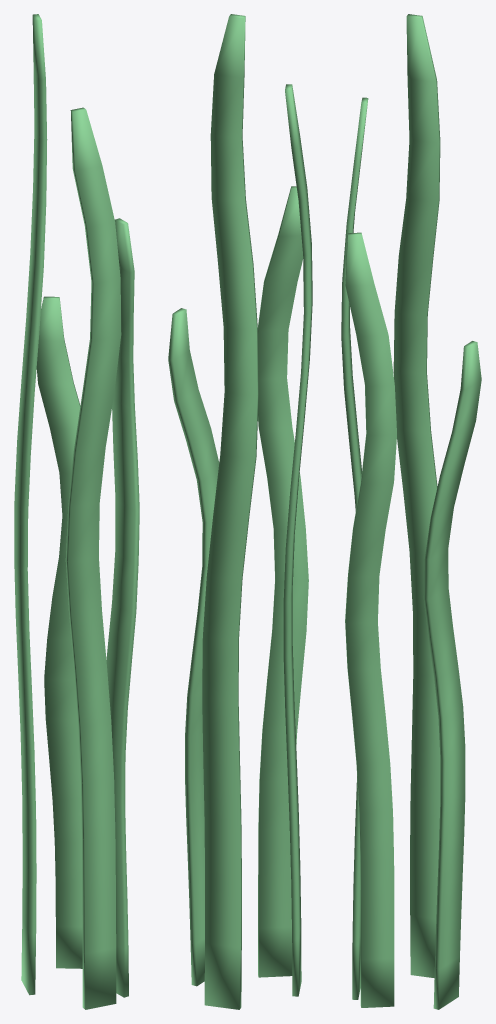
File: Medium5.fbx
The picture shows the model from 3 angles, left to right: view 1: azimuth 90°, elevation 25°; view 2: azimuth 150°, elevation 25°; view 3: azimuth 330°, elevation 25°; orthographic projection. The views are drawn at different scales.
Parts seen in each view (by area): view 1: Medium5_EXPORT; view 2: Medium5_EXPORT; view 3: Medium5_EXPORT.
Boxes of the visible parts, left/top/right/bottom form: Medium5_EXPORT: left=14, top=14, right=139, bottom=1009; Medium5_EXPORT: left=168, top=14, right=312, bottom=1009; Medium5_EXPORT: left=341, top=14, right=481, bottom=1009.
Bounding box in the file's own units: 0.9474 × 7.86 × 0.9181.
